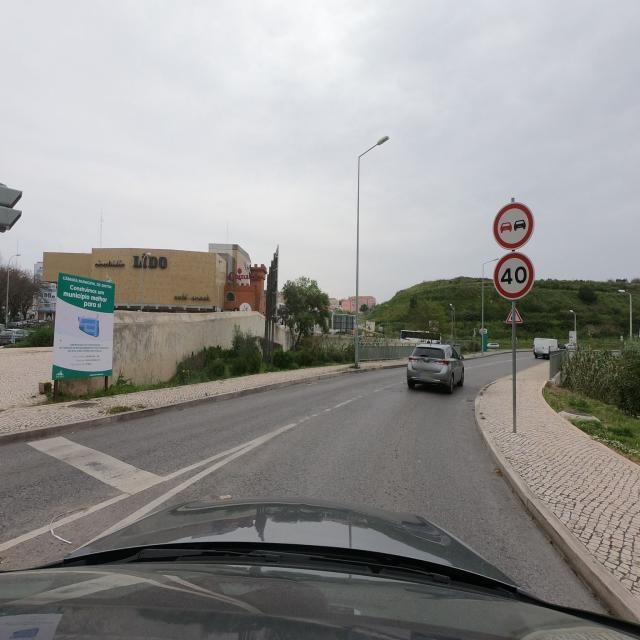car: (406, 342, 464, 394), (0, 327, 28, 347)
